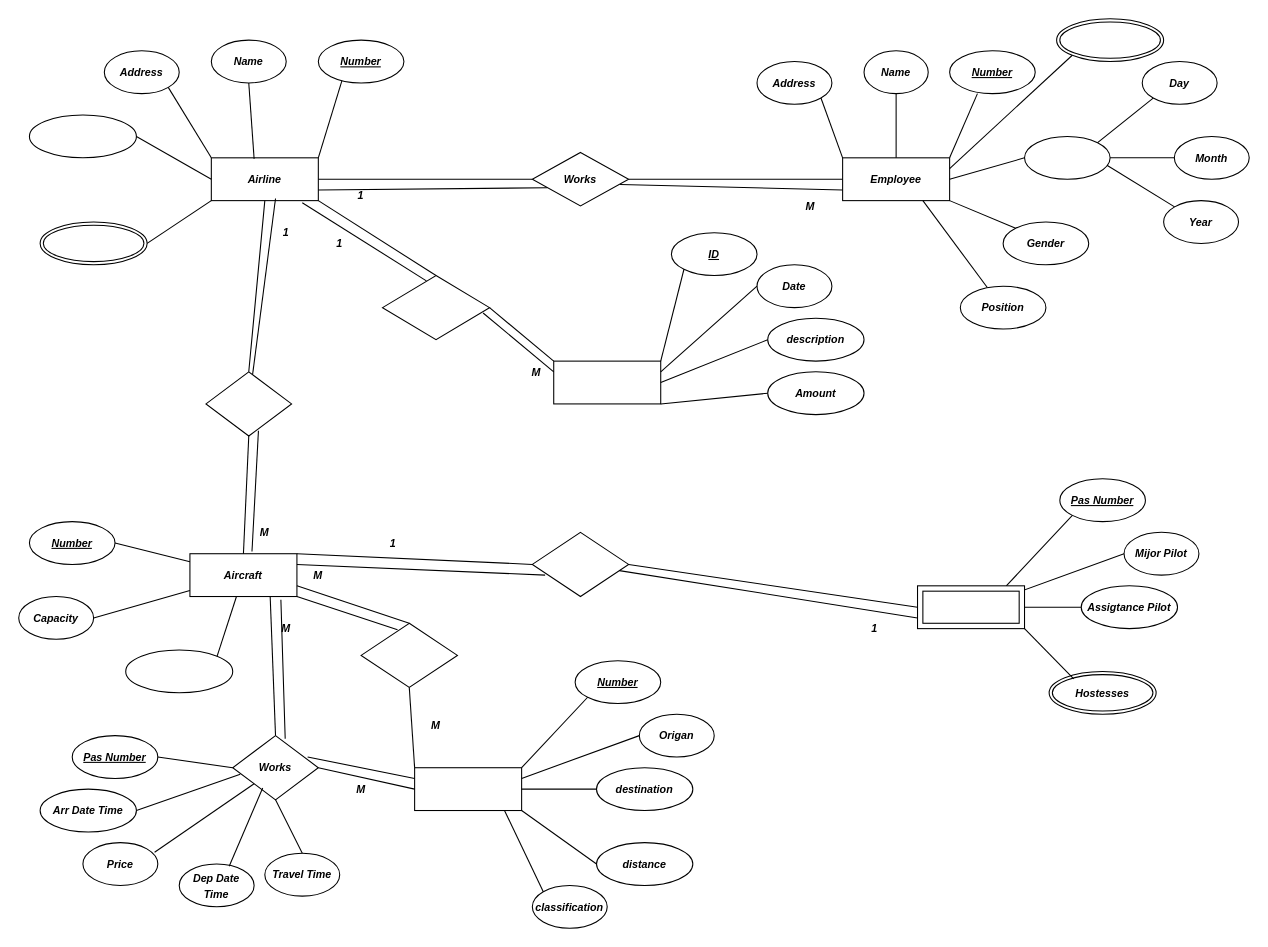
Some shapes in this 1268 by 947 pixel diagram are drawn without their labels. The box of each missing label's shape, as (x1, y1, x2, y2) in pixels:
assigned: (360, 622, 457, 687)
BirthDay: (1023, 135, 1110, 179)
Contact Person: (28, 114, 136, 158)
Crew: (916, 585, 1025, 629)
Has: (531, 531, 629, 597)
Keeps: (381, 274, 490, 340)
Model: (125, 649, 233, 693)
Owns: (205, 371, 292, 436)
Phone Numbers: (39, 221, 147, 265)
Qualifications: (1056, 18, 1164, 62)
Route: (414, 767, 522, 811)
Transaction: (553, 360, 661, 404)
